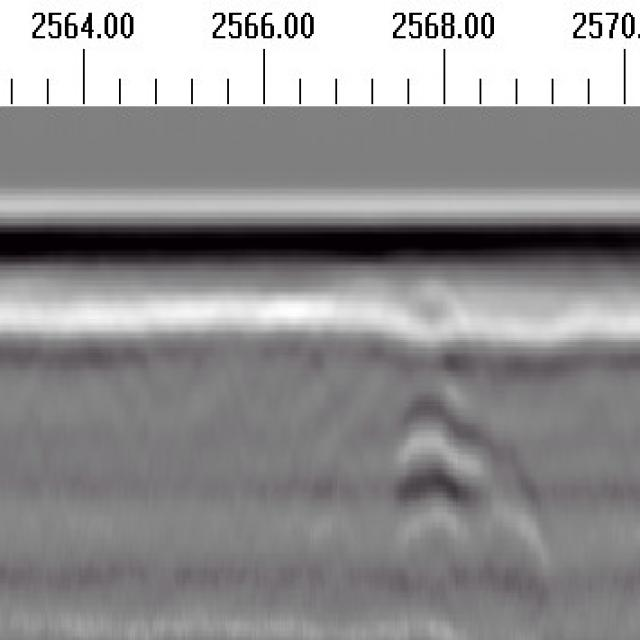loose: (392, 293, 544, 595)
